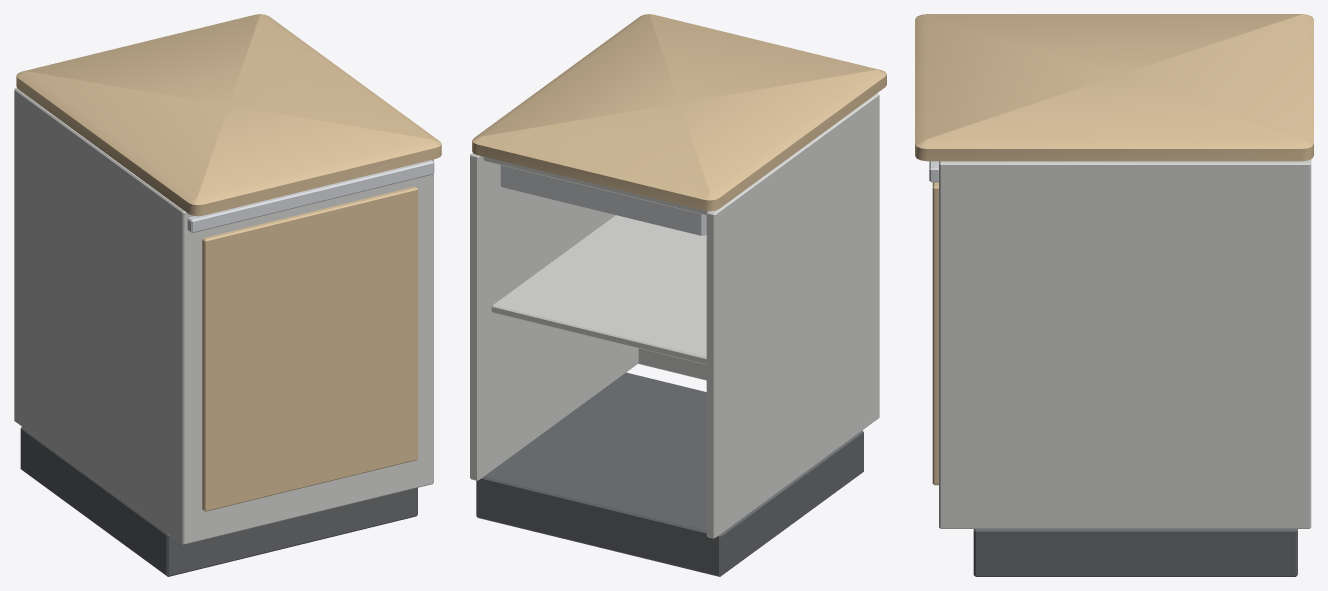
3 renders of one model, left to right at view 1: azimuth 30°, elevation 25°; view 2: azimuth 150°, elevation 25°; view 3: azimuth 270°, elevation 25°, orthographic. The views are drawn at different scales.
Parts seen in each view (by area): view 1: trade-counter-infill; view 2: trade-counter-infill; view 3: trade-counter-infill.
Boxes of the visible parts, bbox=[...] form: trade-counter-infill: bbox=[14, 14, 441, 576]; trade-counter-infill: bbox=[470, 14, 886, 576]; trade-counter-infill: bbox=[915, 14, 1313, 576].
Size of the model in its own units: 0.6001 by 0.9 by 0.75.
